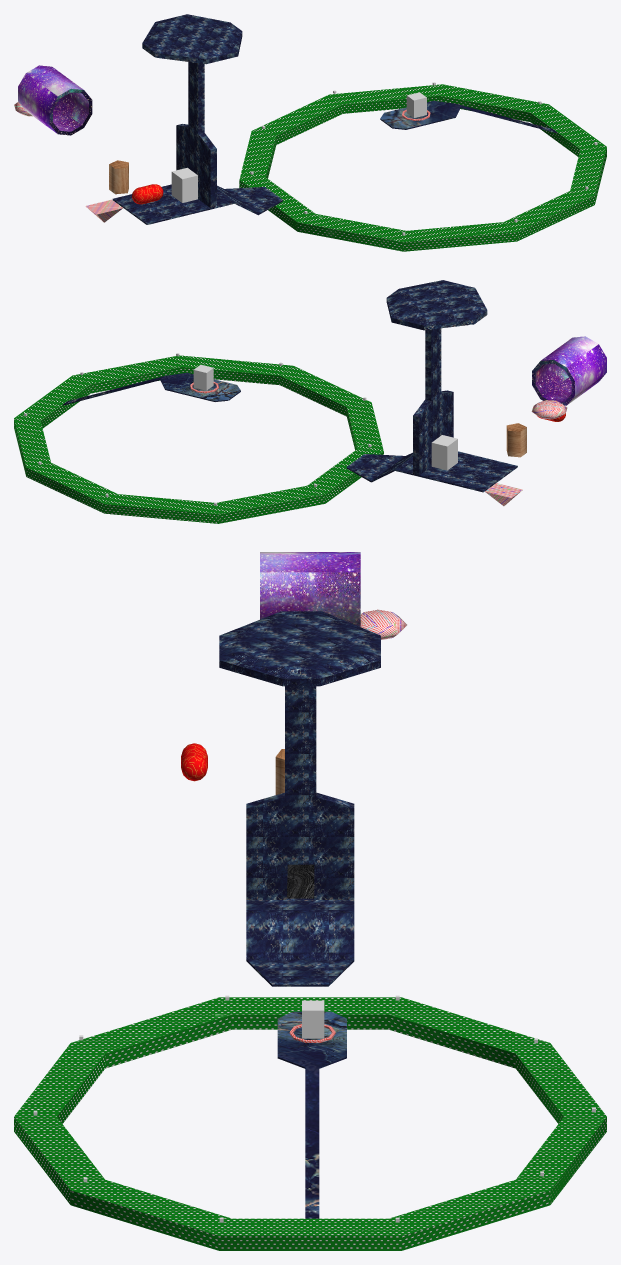
Rendered from Level8.FBX.
3 views of the same model, one above another, from view 1: azimuth 30°, elevation 25°; view 2: azimuth 150°, elevation 25°; view 3: azimuth 270°, elevation 25° (orthographic). The views are drawn at different scales.
Visible parts, largest first — view 1: Tube002, Box001, Tube001, Box003, TriggerBox_OpenDoor_Level8MainDoor, Cylinder001, OilTank001, Pyramid001, TriggerBox_JumpToLevel9; view 2: Tube002, Box001, Tube001, Box003, TriggerBox_OpenDoor_Level8MainDoor, Cylinder001, Sphere001, Pyramid001, TriggerBox_JumpToLevel9; view 3: Tube002, Box001, Tube001, Box003, Sphere001, Box002.
Boxes of the visible parts, left/top/right/bottom form: Tube002: left=239, top=84, right=606, bottom=251; Box001: left=112, top=14, right=282, bottom=224; Tube001: left=18, top=65, right=92, bottom=135; Box003: left=380, top=100, right=557, bottom=133; TriggerBox_OpenDoor_Level8MainDoor: left=171, top=167, right=197, bottom=202; Cylinder001: left=109, top=160, right=128, bottom=194; OilTank001: left=132, top=184, right=163, bottom=204; Pyramid001: left=85, top=199, right=122, bottom=222; TriggerBox_JumpToLevel9: left=406, top=92, right=426, bottom=117; Tube002: left=14, top=355, right=383, bottom=523; Box001: left=346, top=280, right=517, bottom=492; Tube001: left=532, top=336, right=606, bottom=405; Box003: left=63, top=372, right=240, bottom=405; TriggerBox_OpenDoor_Level8MainDoor: left=431, top=435, right=457, bottom=470; Cylinder001: left=506, top=423, right=526, bottom=457; Sphere001: left=531, top=400, right=567, bottom=419; Pyramid001: left=485, top=483, right=522, bottom=506; TriggerBox_JumpToLevel9: left=193, top=364, right=213, bottom=390; Tube002: left=14, top=997, right=606, bottom=1250; Box001: left=219, top=611, right=380, bottom=986; Tube001: left=260, top=552, right=360, bottom=626; Box003: left=277, top=1011, right=346, bottom=1218; Sphere001: left=360, top=609, right=406, bottom=639; Box002: left=286, top=864, right=314, bottom=898.
Size of the model in its own units: 262 by 90.48 by 157.
8 materials, 8 textured.
